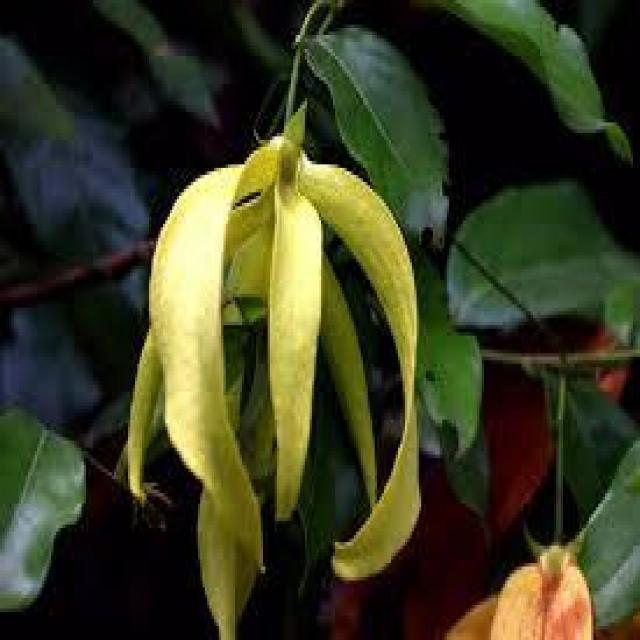organic waste: (146, 107, 430, 603)
